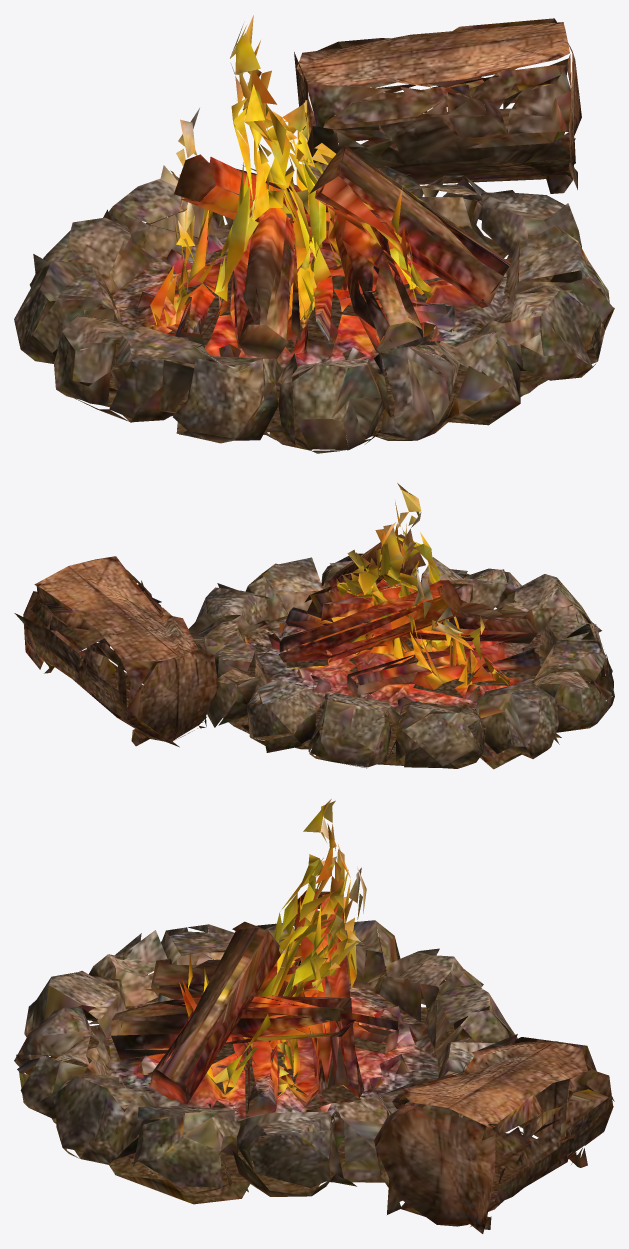
The model's file is fogueira_lod1.glb.
The picture shows the model from 3 angles, top to bottom: view 1: azimuth 30°, elevation 25°; view 2: azimuth 150°, elevation 25°; view 3: azimuth 270°, elevation 25°; orthographic projection. The views are drawn at different scales.
Parts seen in each view (by area): view 1: fogueira; view 2: fogueira; view 3: fogueira.
Boxes of the visible parts, bbox=[...] form: fogueira: bbox=[14, 15, 614, 453]; fogueira: bbox=[14, 483, 614, 769]; fogueira: bbox=[14, 799, 614, 1233].
Size of the model in its own units: 2 by 0.9344 by 1.77.
1 material, 1 textured.
